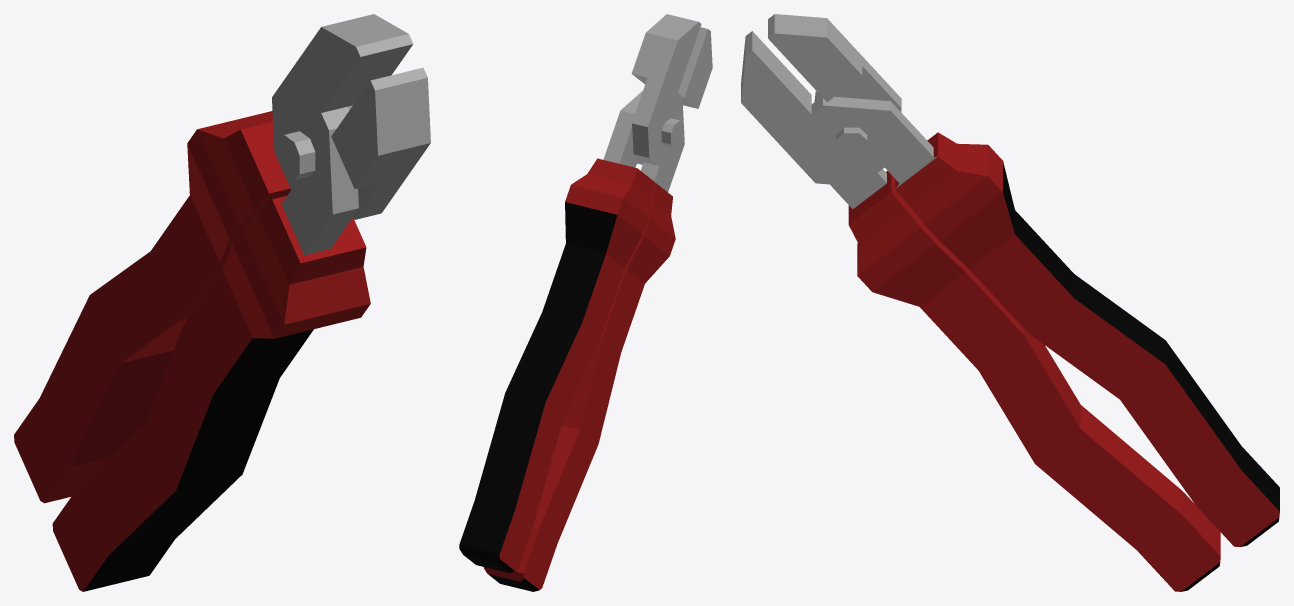
File: AlicateCor.fbx
3 views of the same model, side by side, from view 1: azimuth 30°, elevation 25°; view 2: azimuth 150°, elevation 25°; view 3: azimuth 270°, elevation 25° (orthographic). The views are drawn at different scales.
Parts seen in each view (by area): view 1: Alicate, Cube.001; view 2: Alicate, Cube.001; view 3: Alicate, Cube.001.
Boxes of the visible parts, x1,y1,x2,y2 form: Alicate: (14,14,430,591); Cube.001: (279,131,315,179); Alicate: (459,14,712,591); Cube.001: (661,118,683,147); Alicate: (741,14,1279,591); Cube.001: (836,127,867,161).
Bounding box in the file's own units: 329 × 2670 × 2343.
